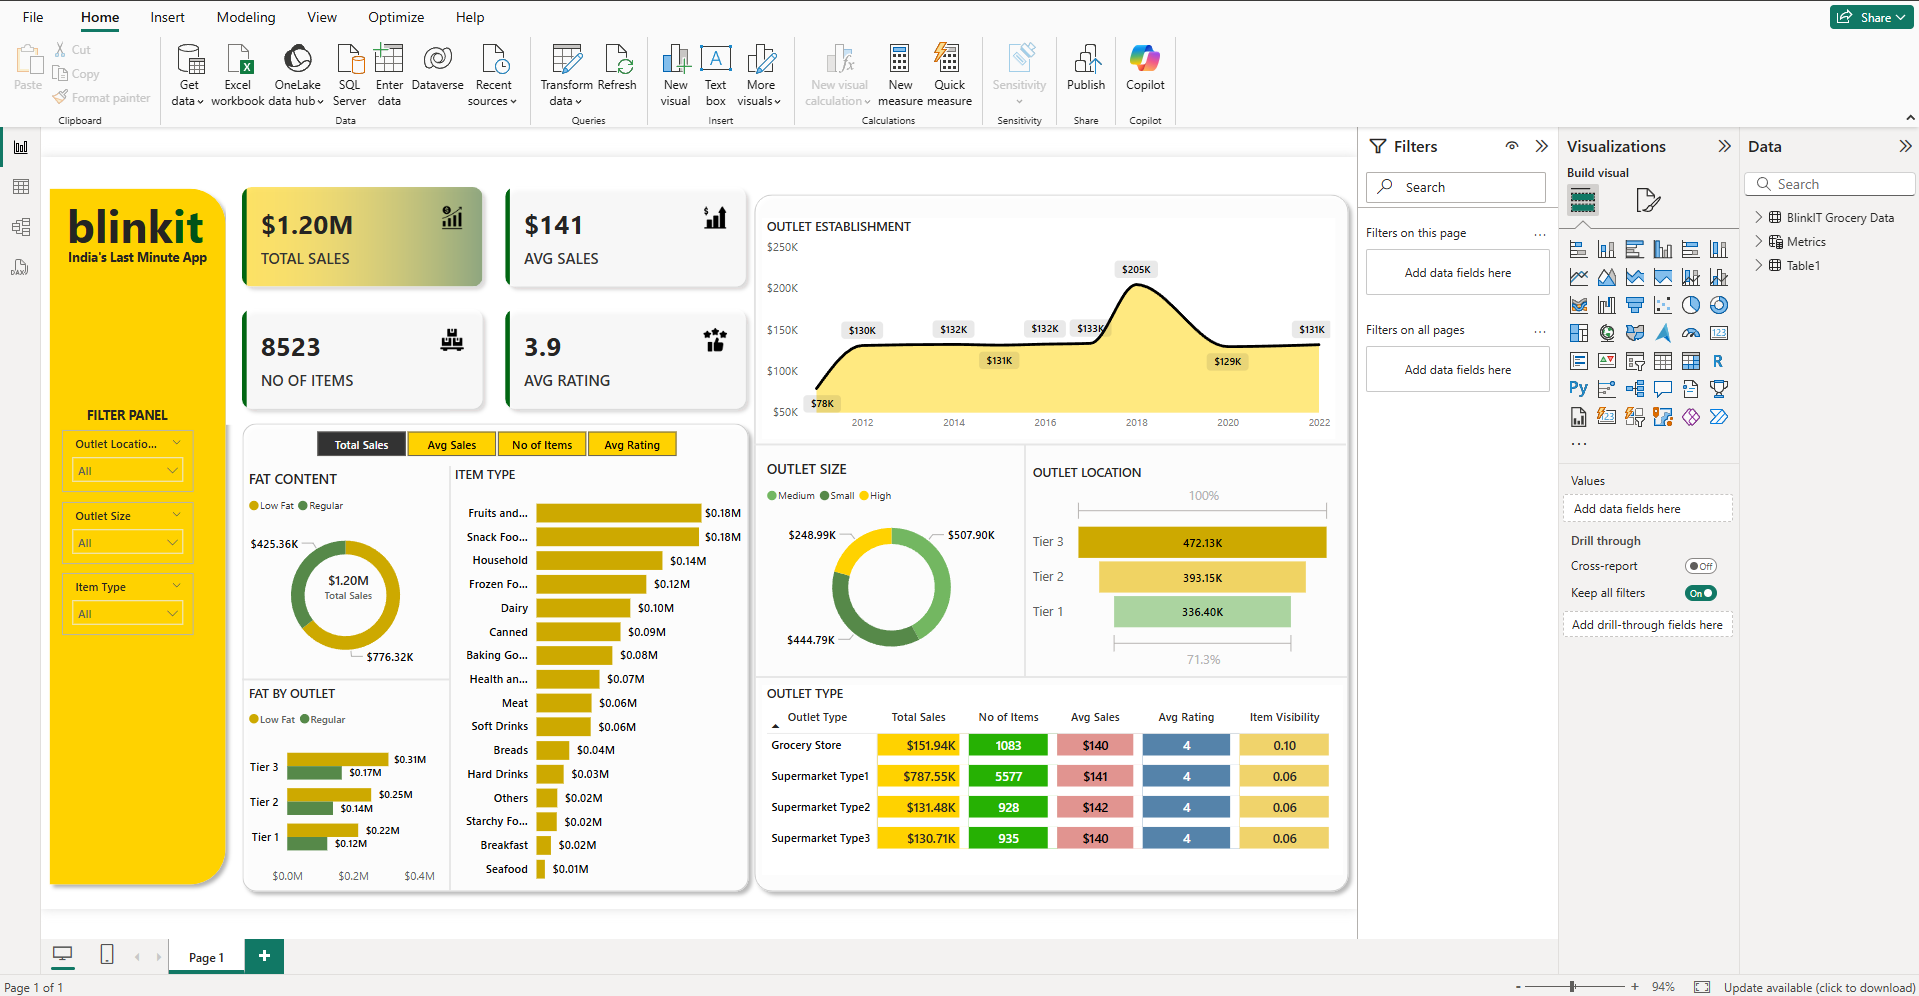

The dashboard page shown, as its layout file describes it:
{"tool":"powerbi","page":{"name":"Page 1","canvas":[1400,800],"ordinal":0},"visuals":[{"type":"shape","box":[0,24.5,205.3,758.5],"z":0},{"type":"textbox","box":[22.3,34,166,102.1],"z":1000},{"type":"textbox","box":[8.5,92.6,188.3,27.7],"z":2000},{"type":"cardVisual","fields":{"Data":["BlinkIT Grocery Data.Total Sales","BlinkIT Grocery Data.Avg Sales","BlinkIT Grocery Data.No of Items","BlinkIT Grocery Data.Avg Rating"]},"box":[196.8,14.9,571.3,270.2],"z":3000},{"type":"shape","box":[205.3,274.5,556.4,516],"z":4000},{"type":"slicer","title":"FAT  CONTENT","fields":{"Values":["BlinkIT Grocery Data.Outlet Location Type"]},"box":[22.3,290.4,140.4,66],"z":5000},{"type":"slicer","fields":{"Values":["Metrics.Metrics"]},"box":[268.1,285.1,431.9,35.1],"z":6000},{"type":"cardVisual","fields":{"Data":["BlinkIT Grocery Data.Total Sales"]},"box":[280.9,424.5,92.6,51.1],"z":7000},{"type":"clusteredBarChart","title":"FAT BY OUTLET","fields":{"Y":["BlinkIT Grocery Data.Total Sales"],"Category":["BlinkIT Grocery Data.Outlet Location Type"],"Series":["BlinkIT Grocery Data.Item Fat Content"]},"box":[216,561.7,216,221.3],"z":8000},{"type":"shape","box":[213.8,550,221.3,11.7],"z":9000},{"type":"shape","box":[428.7,328.7,12.8,452.1],"z":10000},{"type":"barChart","title":"ITEM TYPE","fields":{"Y":["BlinkIT Grocery Data.Total Sales"],"Category":["BlinkIT Grocery Data.Item Type"]},"box":[435.1,328.7,314.9,454.3],"z":11000},{"type":"shape","box":[750,30.9,650,759.6],"z":12000},{"type":"lineChart","title":"OUTLET ESTABLISHMENT","fields":{"Category":["BlinkIT Grocery Data.Outlet Establishment Year"],"Y":["BlinkIT Grocery Data.Total Sales"]},"box":[767,64.9,609.6,235.1],"z":13000},{"type":"shape","box":[758.5,300,629.8,11.7],"z":14000},{"type":"donutChart","title":"OUTLET SIZE","fields":{"Y":["BlinkIT Grocery Data.Total Sales"],"Category":["BlinkIT Grocery Data.Outlet Size"]},"box":[767,321.3,275.5,225.5],"z":15000},{"type":"shape","box":[1043.6,306.4,6.4,246.8],"z":16000},{"type":"funnel","title":"OUTLET LOCATION","fields":{"Y":["Sum(BlinkIT Grocery Data.Sales)"],"Category":["BlinkIT Grocery Data.Outlet Location Type"]},"box":[1050,326.6,327.7,223.4],"z":17000},{"type":"shape","box":[760.6,546.8,629.8,12.8],"z":18000},{"type":"pivotTable","title":"OUTLET TYPE","fields":{"Values":["BlinkIT Grocery Data.Total Sales","BlinkIT Grocery Data.No of Items","BlinkIT Grocery Data.Avg Sales","BlinkIT Grocery Data.Avg Rating","Avg(BlinkIT Grocery Data.Item Visibility)"],"Rows":["BlinkIT Grocery Data.Outlet Type"]},"box":[767,561.7,618.1,202.1],"z":19000},{"type":"slicer","title":"FAT  CONTENT","fields":{"Values":["BlinkIT Grocery Data.Outlet Size"]},"box":[22.3,367,140.4,66],"z":20000},{"type":"donutChart","title":"FAT CONTENT","fields":{"Y":["BlinkIT Grocery Data.Total Sales"],"Category":["BlinkIT Grocery Data.Item Fat Content"]},"box":[216,331.9,216,221.3],"z":21000},{"type":"slicer","title":"FAT  CONTENT","fields":{"Values":["BlinkIT Grocery Data.Item Type"]},"box":[22.3,442.6,140.4,66],"z":22000},{"type":"textbox","box":[43.6,260.6,119.1,29.8],"z":23000}]}

Visuals, with their boxes on the page's 1400x800 design canvas (x1, y1, x2, y2). These are canvas units, not pixel positions in the 1919x996 screenshot, which may show the page scaled, cropped or inside an application window:
shape: (0, 24, 205, 783)
textbox: (22, 34, 188, 136)
textbox: (8, 93, 197, 120)
cardVisual - BlinkIT Grocery Data.Total Sales x BlinkIT Grocery Data.Avg Sales: (197, 15, 768, 285)
shape: (205, 274, 762, 790)
"FAT  CONTENT" slicer: (22, 290, 163, 356)
slicer - Metrics.Metrics: (268, 285, 700, 320)
cardVisual - BlinkIT Grocery Data.Total Sales: (281, 424, 374, 476)
"FAT BY OUTLET" clusteredBarChart: (216, 562, 432, 783)
shape: (214, 550, 435, 562)
shape: (429, 329, 442, 781)
"ITEM TYPE" barChart: (435, 329, 750, 783)
shape: (750, 31, 1400, 790)
"OUTLET ESTABLISHMENT" lineChart: (767, 65, 1377, 300)
shape: (758, 300, 1388, 312)
"OUTLET SIZE" donutChart: (767, 321, 1042, 547)
shape: (1044, 306, 1050, 553)
"OUTLET LOCATION" funnel: (1050, 327, 1378, 550)
shape: (761, 547, 1390, 560)
"OUTLET TYPE" pivotTable: (767, 562, 1385, 764)
"FAT  CONTENT" slicer: (22, 367, 163, 433)
"FAT CONTENT" donutChart: (216, 332, 432, 553)
"FAT  CONTENT" slicer: (22, 443, 163, 509)
textbox: (44, 261, 163, 290)
